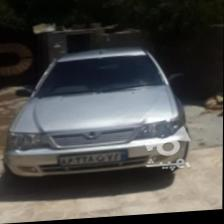plate: (59, 150, 130, 167)
